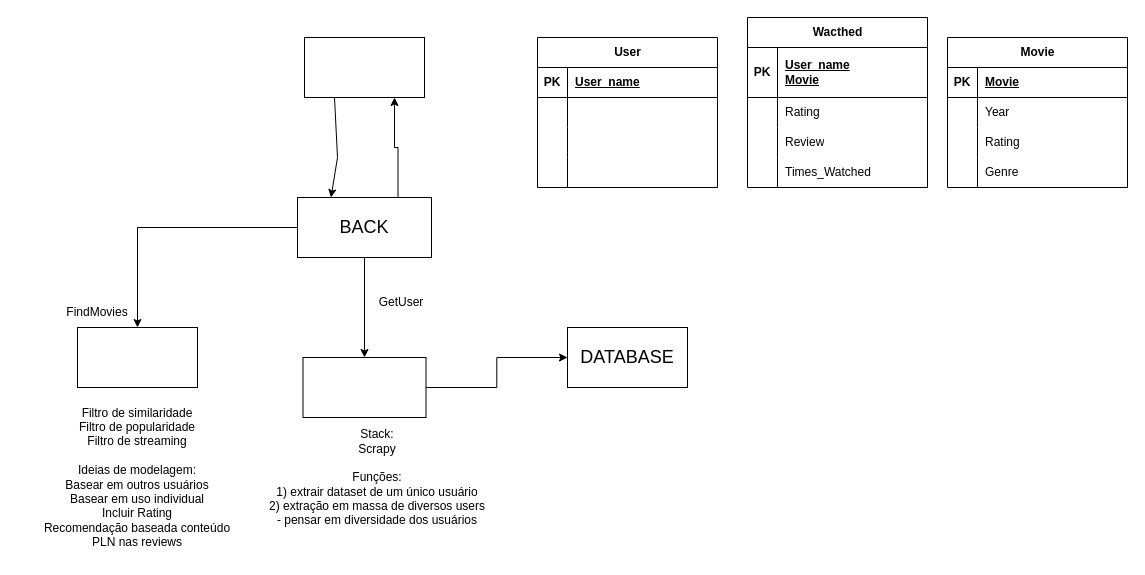
Image size: 1145x575. Some labels were removed from this diagram. Here are the shapes that lost their labels. From the top down, the centre of each, then its label:
At (364,67): "FRONT".
At (137,357): "MODEL".
At (364,387): "CRAWLER".
